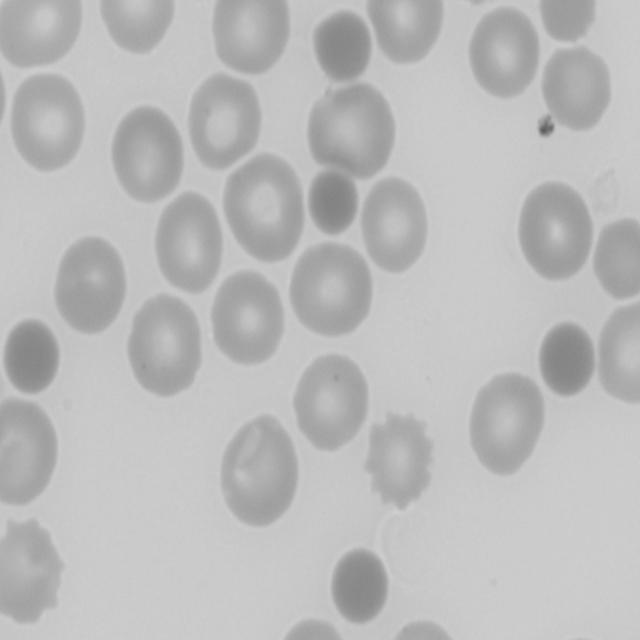RBC: (212, 416, 300, 530), (222, 156, 306, 269), (308, 76, 398, 180), (286, 238, 375, 342), (152, 190, 228, 306), (127, 292, 207, 402), (468, 370, 548, 480), (50, 230, 130, 338), (5, 68, 86, 174), (292, 347, 372, 454), (185, 68, 263, 172), (106, 102, 184, 206), (0, 514, 69, 631), (207, 264, 286, 366), (518, 180, 596, 282), (357, 172, 432, 276), (366, 406, 437, 513), (468, 5, 542, 106), (0, 397, 62, 514), (539, 41, 614, 131), (208, 0, 292, 77), (0, 0, 85, 71), (367, 0, 448, 66), (594, 298, 640, 407), (94, 0, 179, 57), (592, 212, 640, 302), (264, 617, 353, 640), (379, 619, 463, 640), (0, 46, 10, 154), (430, 0, 513, 8)
Spherocyte: (331, 542, 392, 630), (310, 2, 374, 84), (2, 317, 64, 397), (538, 318, 598, 396), (306, 164, 362, 242), (538, 0, 600, 47)
